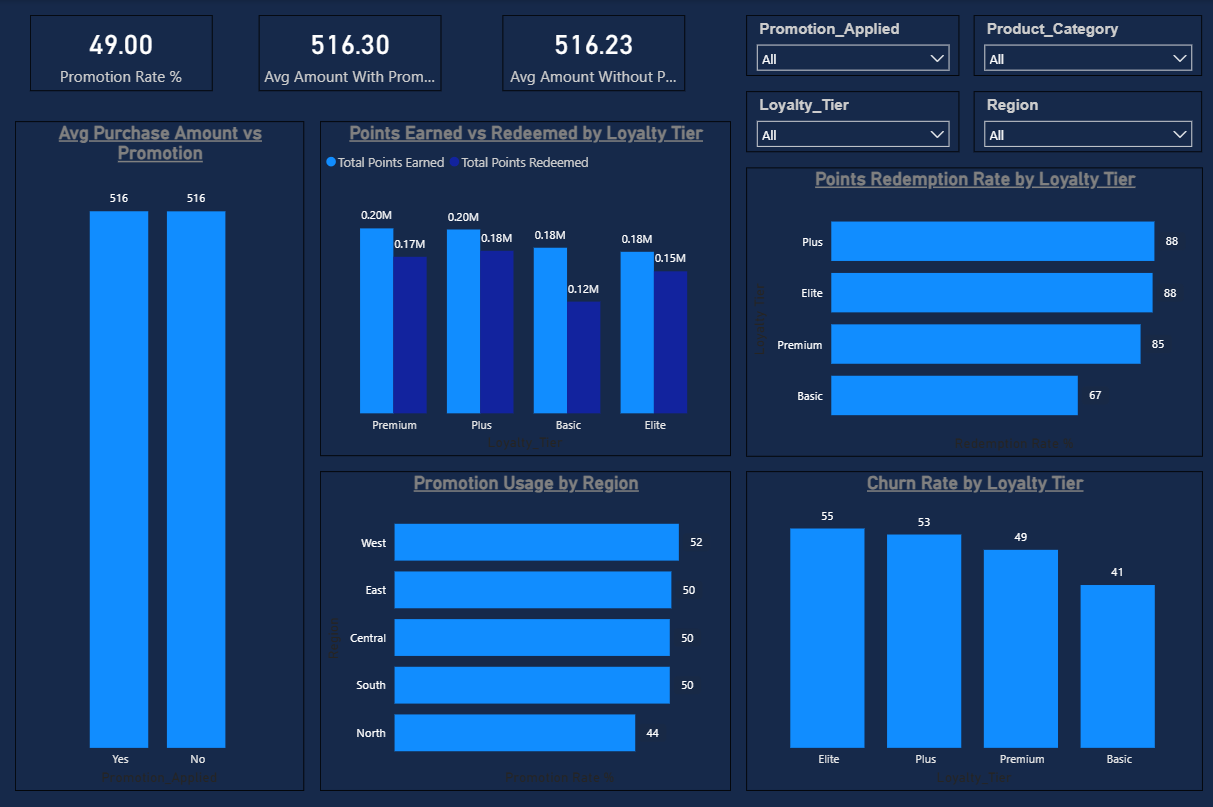

Layout of this report page (visuals, bound fields, positions):
{"tool":"powerbi","page":{"name":"Page3","canvas":[1280,850],"ordinal":2},"visuals":[{"type":"clusteredColumnChart","title":"Avg Purchase Amount vs Promotion","fields":{"Category":["Customer_Transactions.Promotion_Applied"],"Y":["Avg(Customer_Transactions.Amount)"]},"box":[16,128,304,704],"z":0},{"type":"clusteredColumnChart","title":"Churn Rate by Loyalty Tier","fields":{"Y":["Measures_Folder.Churn Rate %"],"Category":["Loyalty_Program.Loyalty_Tier"]},"box":[784,496,480,336],"z":1000},{"type":"clusteredColumnChart","title":"Points Earned vs Redeemed by Loyalty Tier","fields":{"Y":["Measures_Folder.Total Points Earned","Measures_Folder.Total Points Redeemed"],"Category":["Loyalty_Program.Loyalty_Tier"]},"box":[336,128,432,352],"z":2000},{"type":"clusteredBarChart","title":"Promotion Usage by Region","fields":{"Y":["Measures_Folder.Promotion Rate %"],"Category":["Customer_Demographics.Region"]},"box":[336,496,432,336],"z":3000},{"type":"clusteredBarChart","title":"Points Redemption Rate by Loyalty Tier","fields":{"Y":["Measures_Folder.Redemption Rate %"],"Category":["Loyalty_Program.Loyalty_Tier"]},"box":[784,176,480,304],"z":4000},{"type":"slicer","fields":{"Values":["Customer_Demographics.Region"]},"box":[1024,96,240,64],"z":5000},{"type":"slicer","fields":{"Values":["Loyalty_Program.Loyalty_Tier"]},"box":[784,96,224,64],"z":6000},{"type":"slicer","fields":{"Values":["Customer_Transactions.Product_Category"]},"box":[1024,16,240,64],"z":7000},{"type":"slicer","fields":{"Values":["Customer_Transactions.Promotion_Applied"]},"box":[784,16,224,64],"z":8000},{"type":"card","fields":{"Values":["Measures_Folder.Promotion Rate %"]},"box":[32,16,192,80],"z":9000},{"type":"card","fields":{"Values":["Measures_Folder.Avg Amount With Promotion"]},"box":[272,16,192,80],"z":10000},{"type":"card","fields":{"Values":["Measures_Folder.Avg Amount Without Promotion"]},"box":[528,16,192,80],"z":11000}]}

Visuals, with their boxes in screenshot pixels (x1, y1, x2, y2), scaled from the page's 1280x850 canvas onto the 1213x807 screenshot:
"Avg Purchase Amount vs Promotion" clusteredColumnChart: crop(15, 122, 303, 790)
"Churn Rate by Loyalty Tier" clusteredColumnChart: crop(743, 471, 1198, 790)
"Points Earned vs Redeemed by Loyalty Tier" clusteredColumnChart: crop(318, 122, 728, 456)
"Promotion Usage by Region" clusteredBarChart: crop(318, 471, 728, 790)
"Points Redemption Rate by Loyalty Tier" clusteredBarChart: crop(743, 167, 1198, 456)
slicer - Customer_Demographics.Region: crop(970, 91, 1198, 152)
slicer - Loyalty_Program.Loyalty_Tier: crop(743, 91, 955, 152)
slicer - Customer_Transactions.Product_Category: crop(970, 15, 1198, 76)
slicer - Customer_Transactions.Promotion_Applied: crop(743, 15, 955, 76)
card - Measures_Folder.Promotion Rate %: crop(30, 15, 212, 91)
card - Measures_Folder.Avg Amount With Promotion: crop(258, 15, 440, 91)
card - Measures_Folder.Avg Amount Without Promotion: crop(500, 15, 682, 91)
